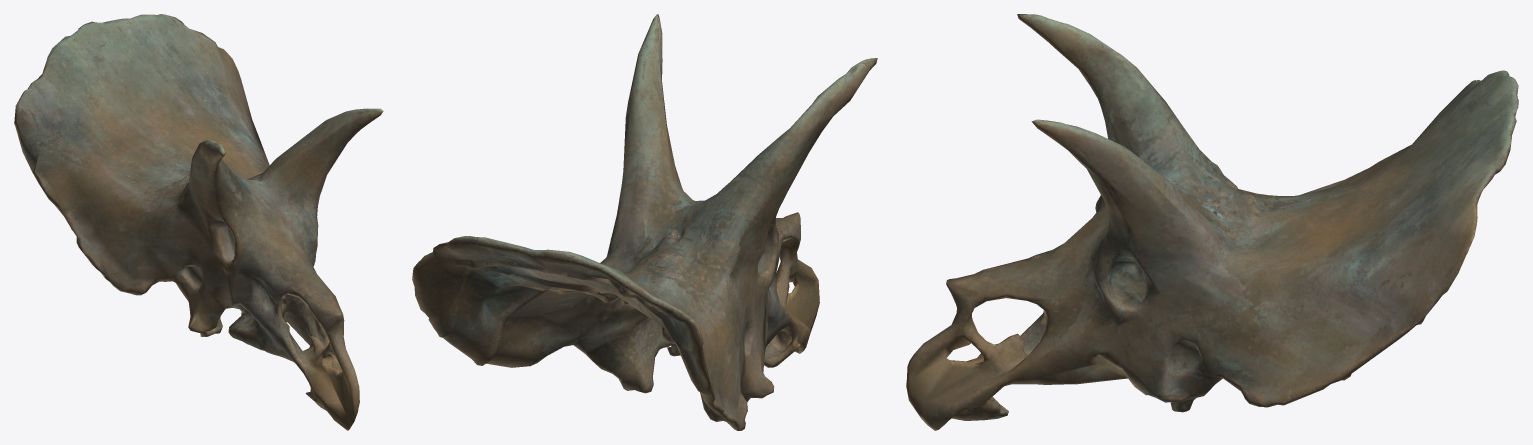
Rendered from dinoSkull.glb.
3 views of the same model, side by side, from view 1: azimuth 30°, elevation 25°; view 2: azimuth 150°, elevation 25°; view 3: azimuth 270°, elevation 25° (orthographic). The views are drawn at different scales.
Visible parts, largest first — view 1: instant2.001; view 2: instant2.001; view 3: instant2.001.
Part boxes in pixels (box(x1,y1,x2,y2)): instant2.001: box(14, 14, 383, 430); instant2.001: box(412, 14, 877, 430); instant2.001: box(906, 14, 1518, 430).
Size of the model in its own units: 99.91 by 116 by 179.
Materials: 1 (1 with a texture image).
